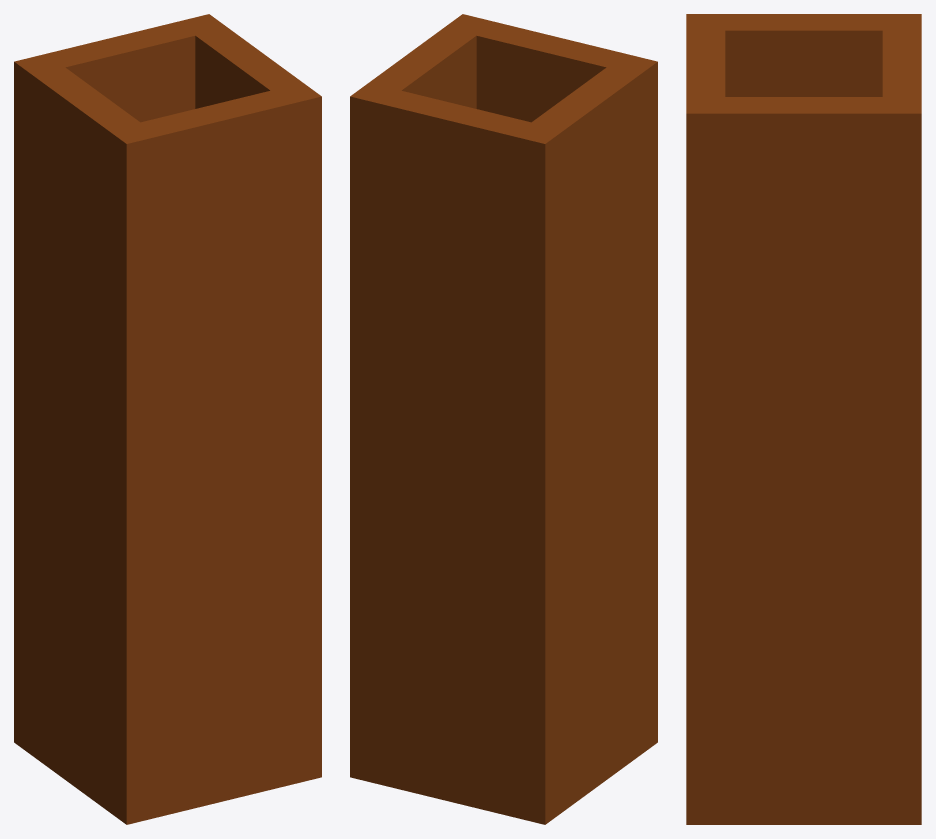
The model's file is chimney_top_long_2.fbx.
3 views of the same model, side by side, from view 1: azimuth 30°, elevation 25°; view 2: azimuth 150°, elevation 25°; view 3: azimuth 270°, elevation 25° (orthographic). The views are drawn at different scales.
Parts seen in each view (by area): view 1: Mesh1_Chimney3_1 Model; view 2: Mesh1_Chimney3_1 Model; view 3: Mesh1_Chimney3_1 Model.
Part boxes in pixels (box(x1,y1,x2,y2)): Mesh1_Chimney3_1 Model: box(14, 14, 321, 824); Mesh1_Chimney3_1 Model: box(350, 14, 657, 824); Mesh1_Chimney3_1 Model: box(686, 14, 921, 824).
Size of the model in its own units: 0.3 by 1 by 0.3.
